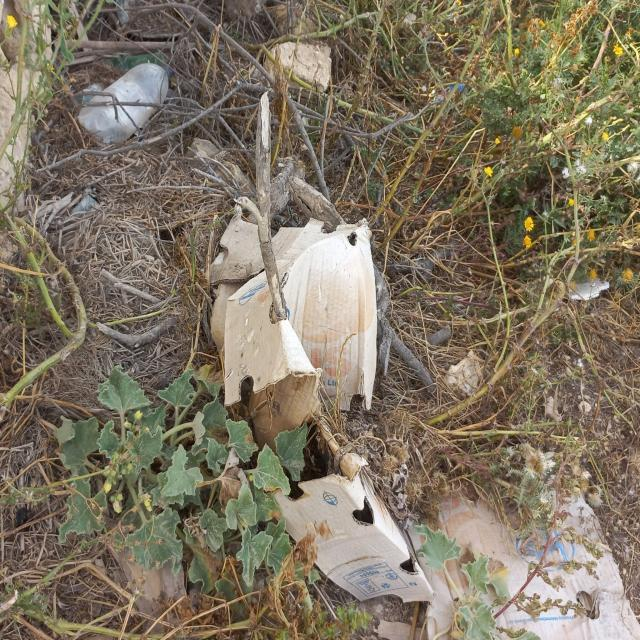Bottle: (75, 62, 173, 142), (100, 51, 165, 70), (68, 82, 104, 107)
Carton: (271, 426, 640, 640), (203, 213, 379, 445)
Styrofoam piece: (570, 274, 611, 304)
